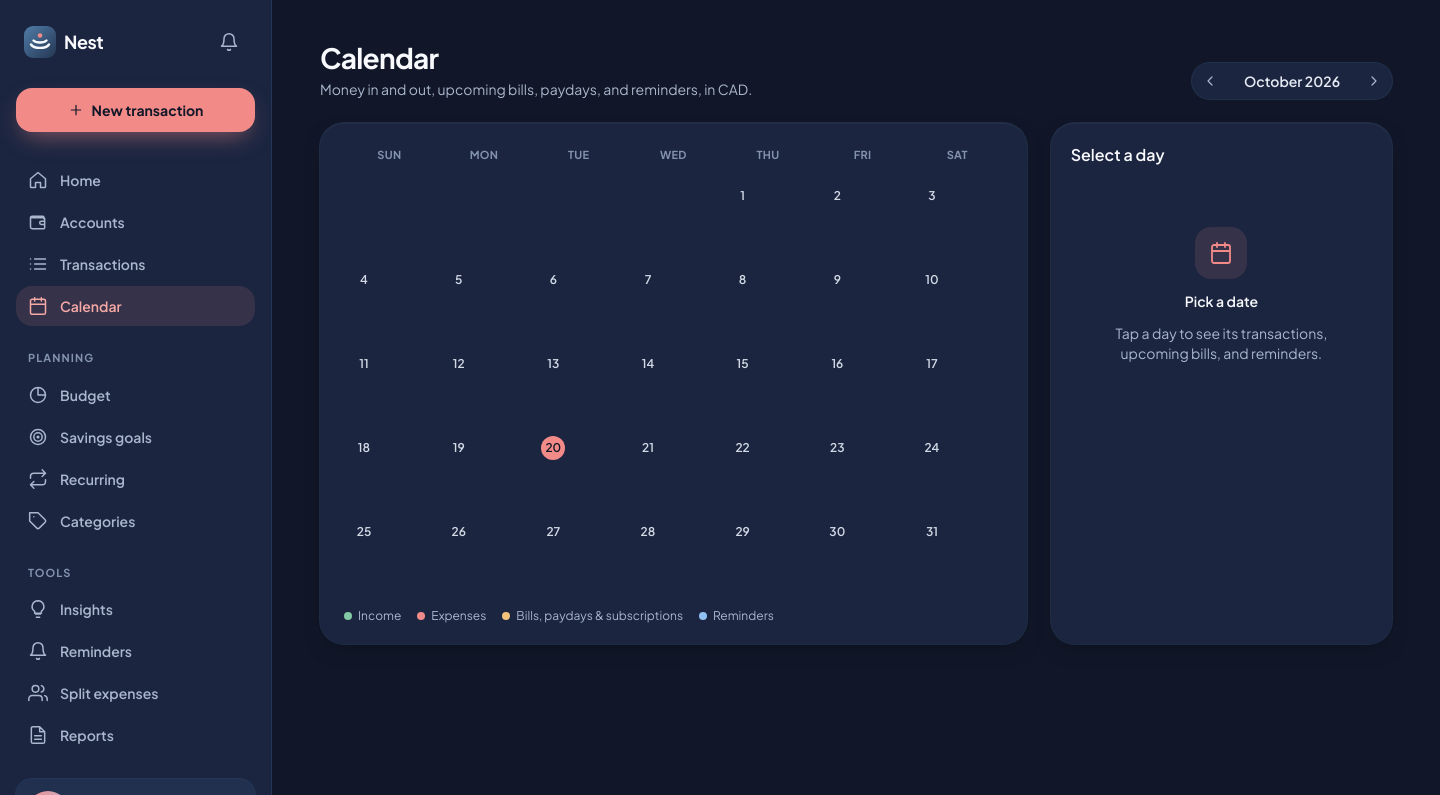
Test: CalendarPage › marks upcoming paydays and bills and lists them for the day
Click the button named "Next month": (1374, 81) [1360,67,1388,95]
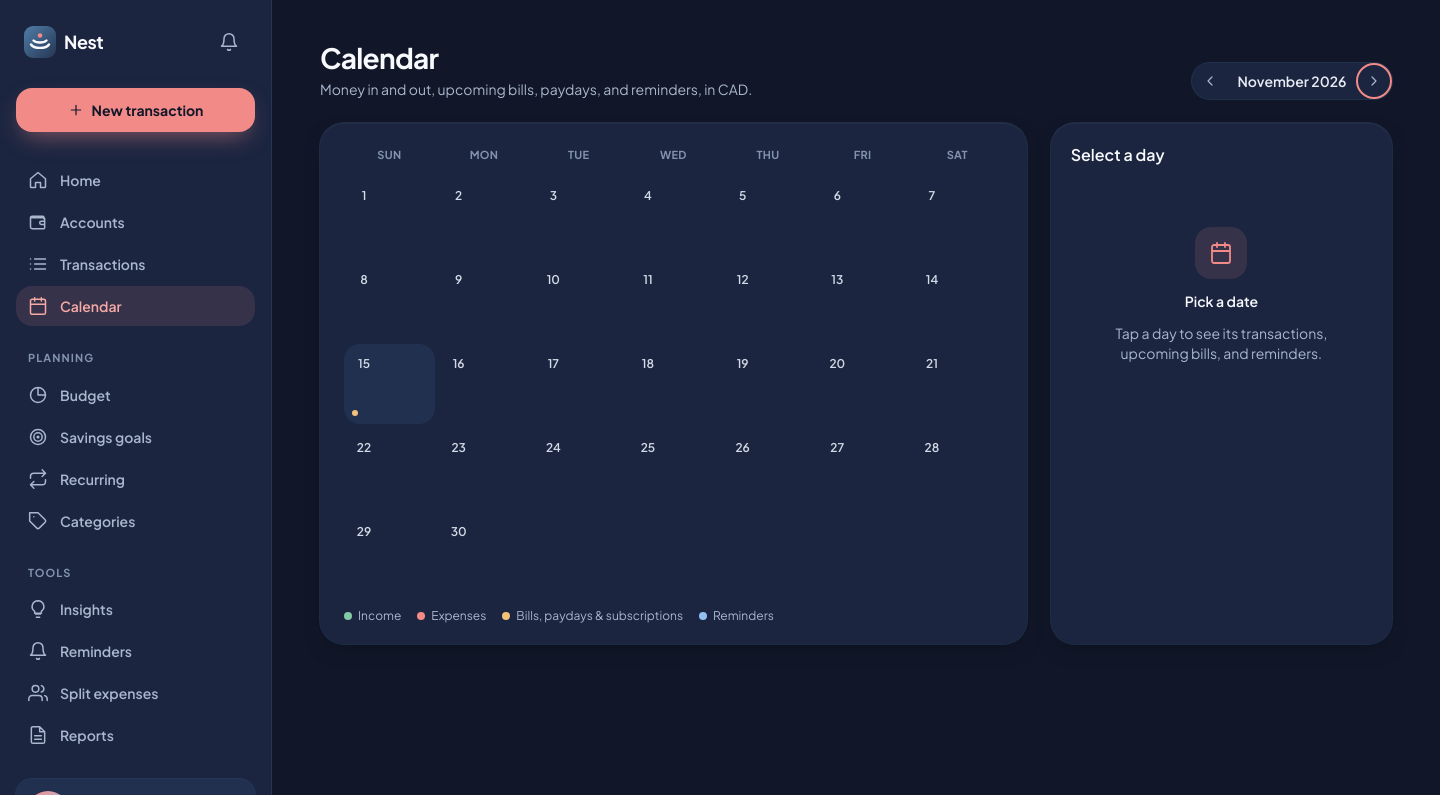
Click the button "15": (389, 384) [344,344,435,424]
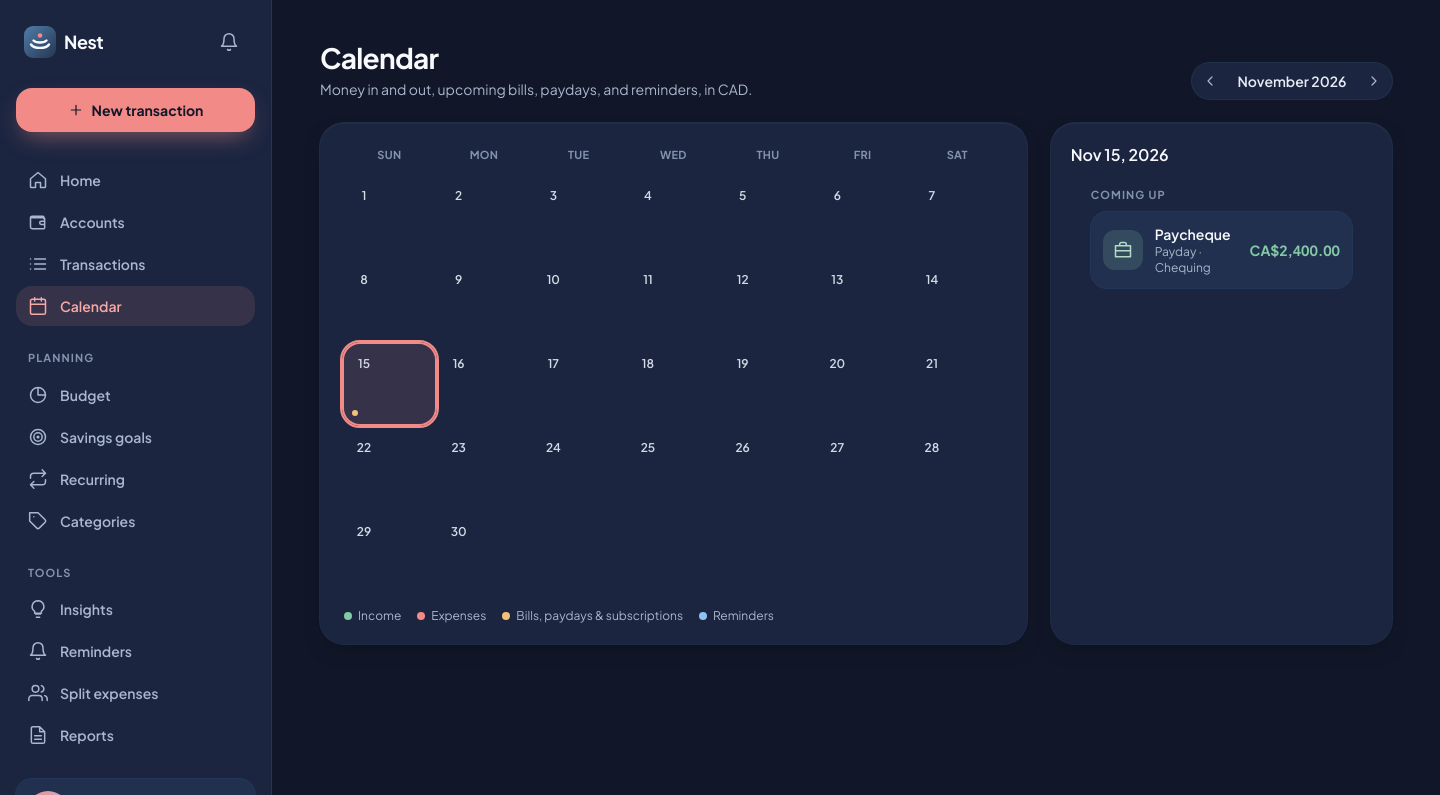
Now the text "Paycheque" is shown, box [1155,224,1238,244]
Now the text "Payday · Chequing" is shown, box [1155,244,1211,274]
